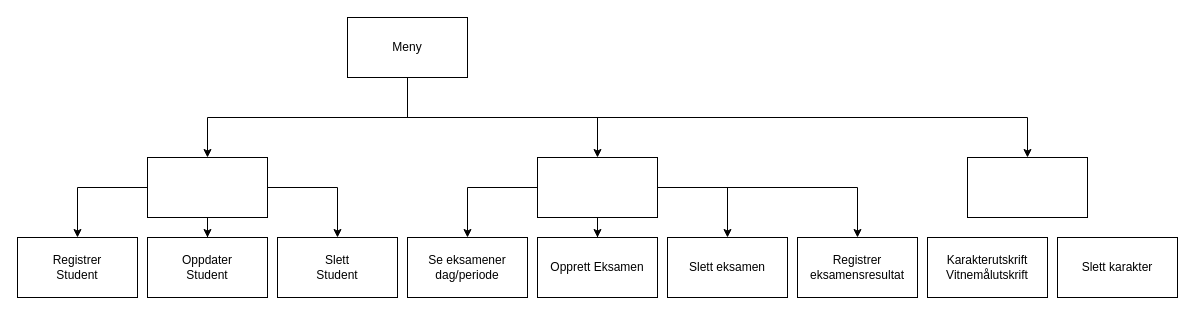
This 1195x315 diagram has some shape labels left out. Each missing label, with the centre of its shape:
"Eksamen" belongs at point 597,187.
"Eksamensresultater" belongs at point 1027,187.
"Student" belongs at point 207,187.
